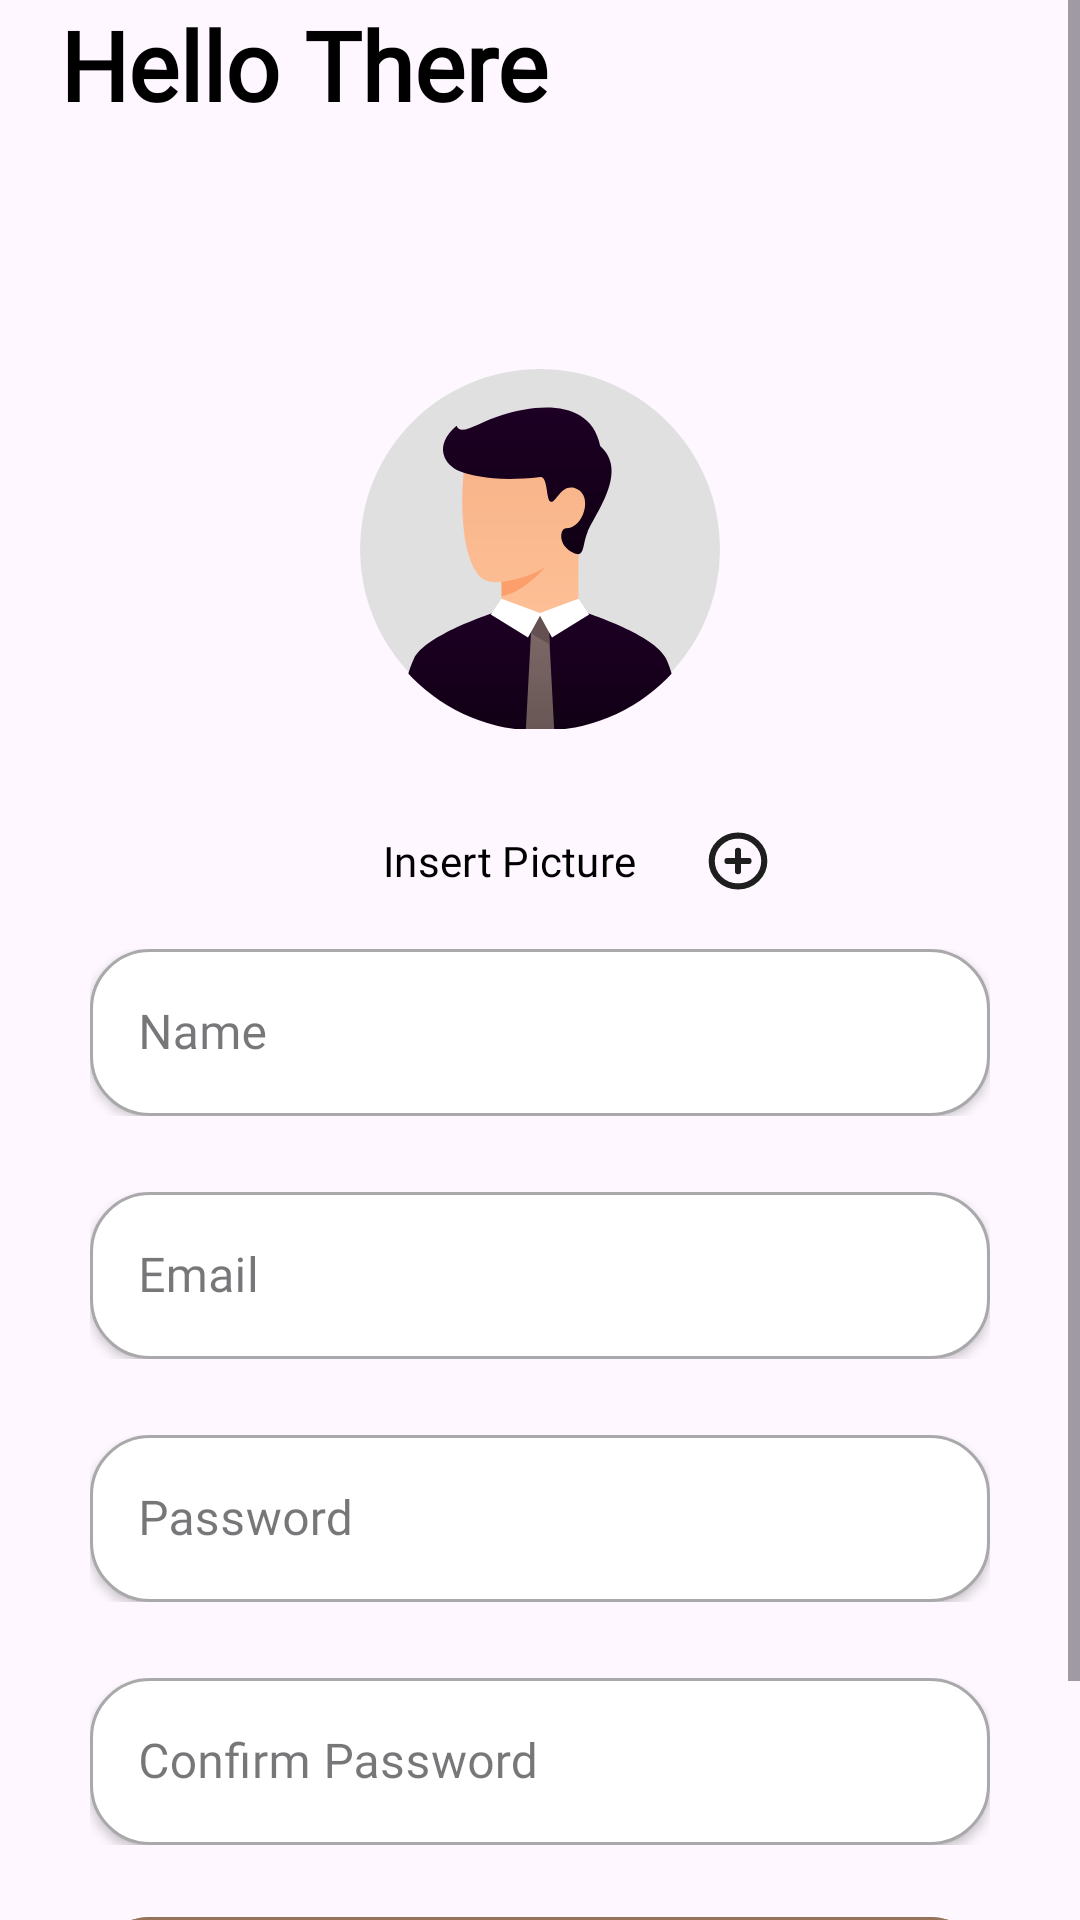

Where icons sit on this 1080×1920 app screen, as (x1, y1, x2, y2):
add: (708, 832, 768, 890)
profile picture: (360, 369, 720, 729)
